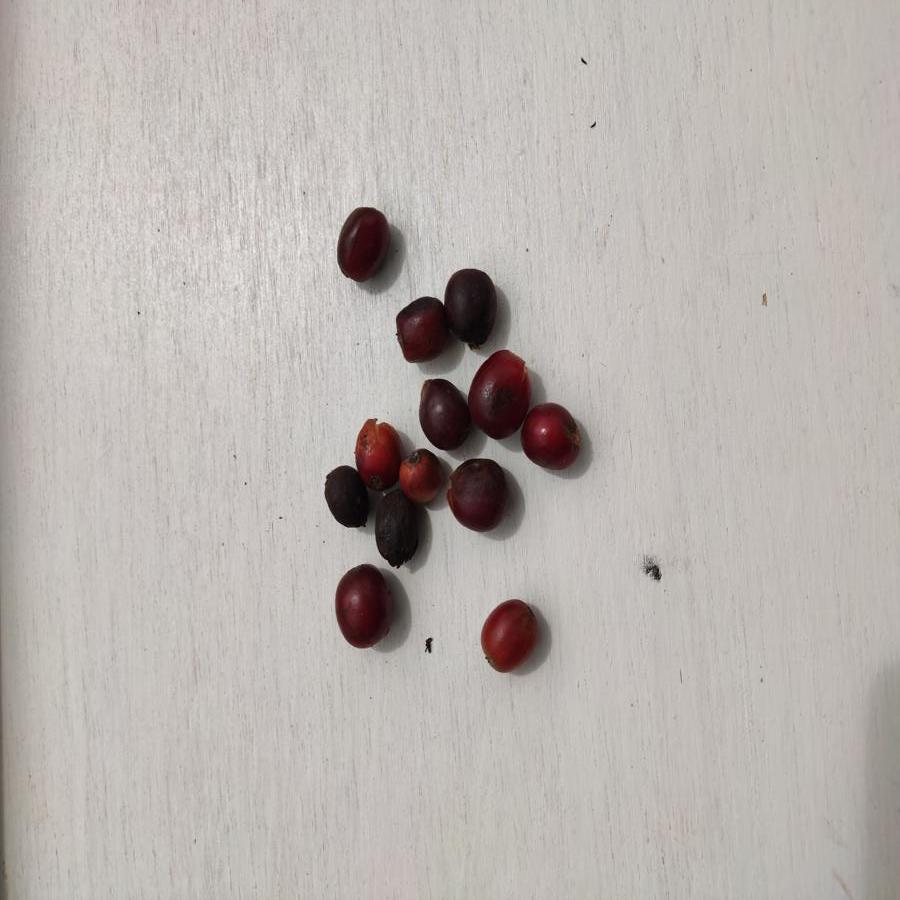Maduro: (479, 598, 536, 674), (356, 415, 396, 454)
Sobremaduro: (331, 562, 395, 649), (444, 458, 510, 535), (471, 351, 526, 438), (444, 265, 501, 347), (334, 203, 390, 280), (525, 400, 579, 476), (415, 378, 471, 450), (391, 299, 448, 366), (320, 467, 374, 524), (372, 496, 422, 557), (398, 450, 440, 501)
